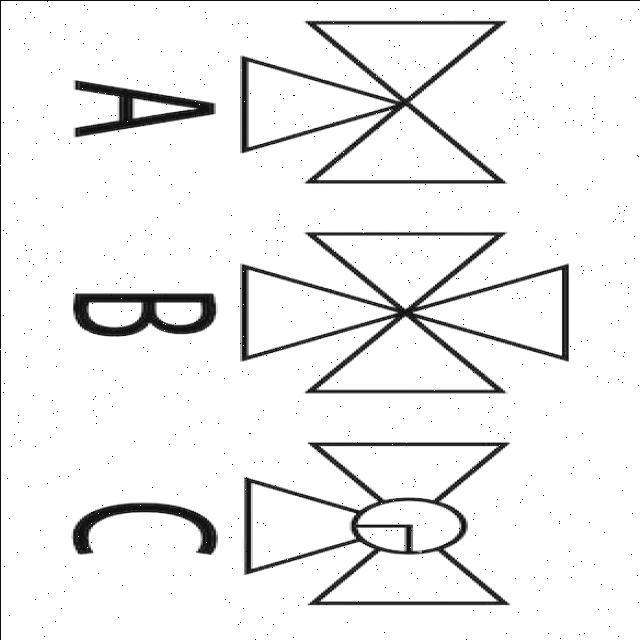3 Way Gate Valve: (218, 2, 564, 205)
4 Way Gate Valve: (220, 212, 619, 410)
